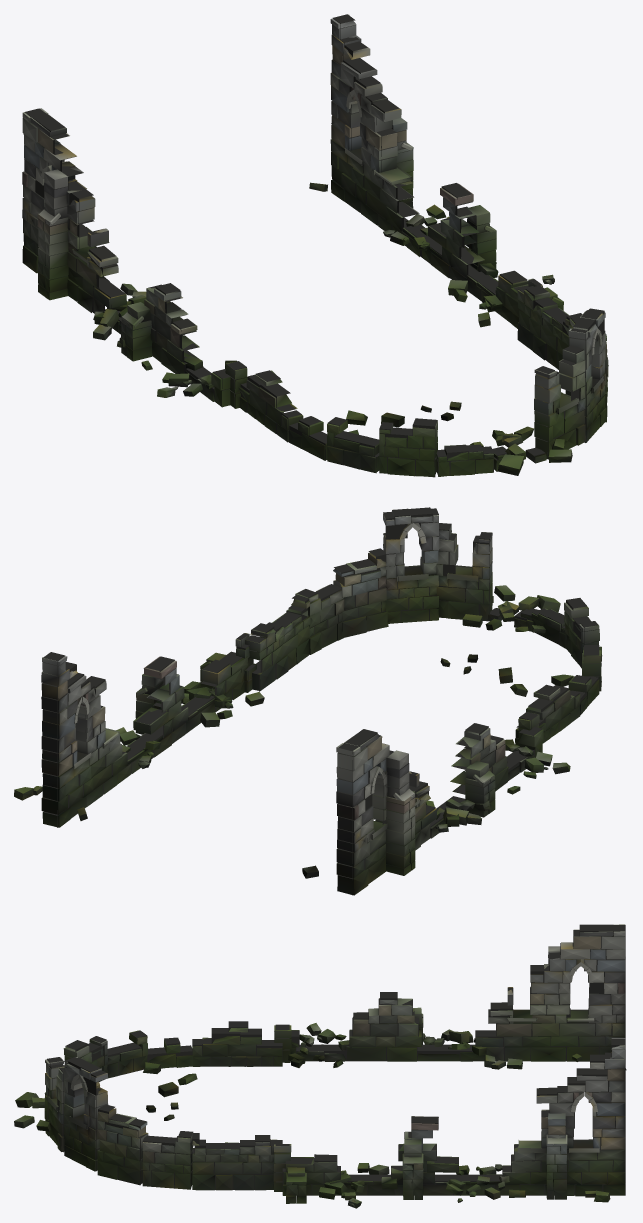
File: hollow_crypt_entrance_walls.glb
3 renders of one model, top to bottom at view 1: azimuth 30°, elevation 25°; view 2: azimuth 150°, elevation 25°; view 3: azimuth 270°, elevation 25°, orthographic. The views are drawn at different scales.
Visible parts, largest first — view 1: Entrance_Nave; view 2: Entrance_Nave; view 3: Entrance_Nave.
Boxes of the visible parts, <box> form: Entrance_Nave: <box>22,14,608,477</box>; Entrance_Nave: <box>14,507,602,895</box>; Entrance_Nave: <box>14,924,626,1208</box>.
Bounding box in the file's own units: 23.24 × 9.2 × 33.99.
